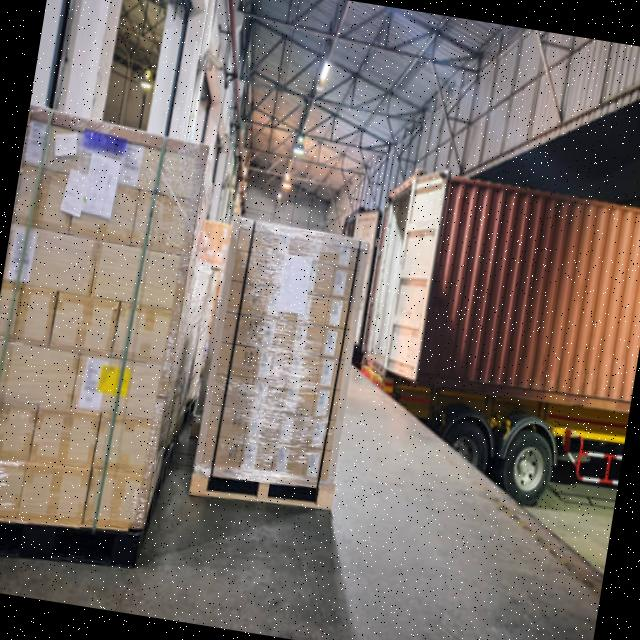Wooden-Pallets: (187, 468, 336, 512)
